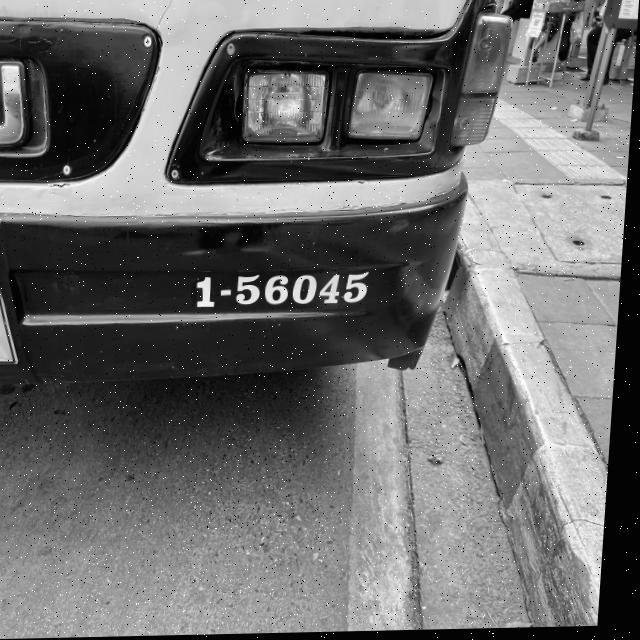BMTA-bus: (0, 0, 508, 384)
